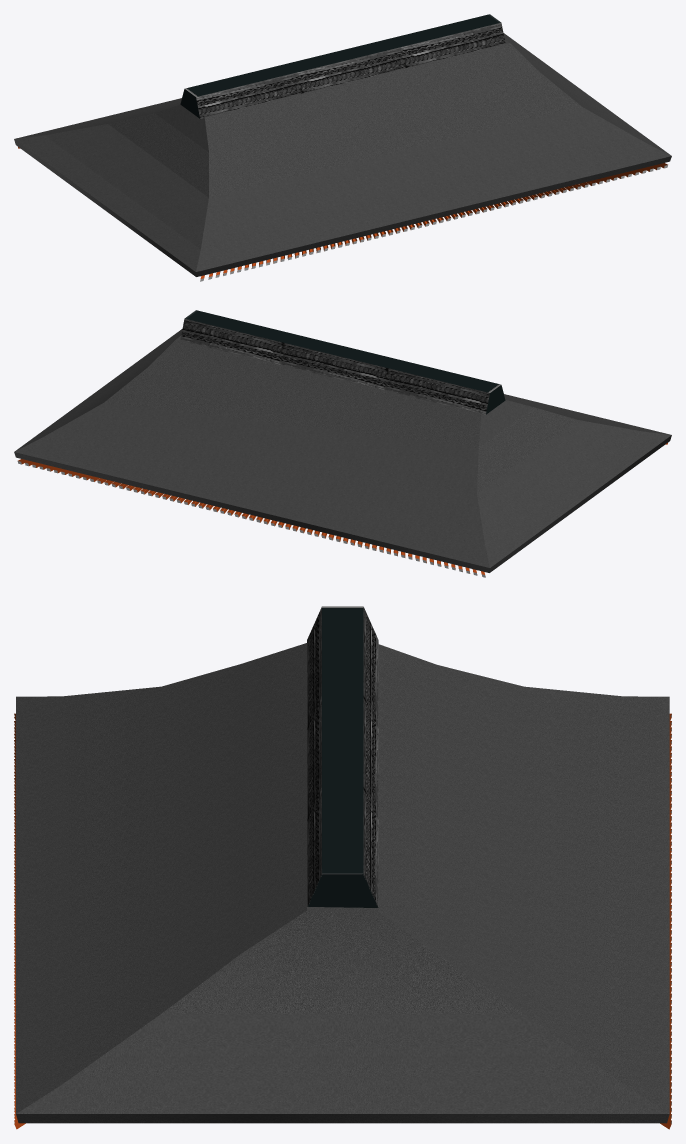
Rendered from roof big.FBX.
The picture shows the model from 3 angles, top to bottom: view 1: azimuth 30°, elevation 25°; view 2: azimuth 150°, elevation 25°; view 3: azimuth 270°, elevation 25°; orthographic projection. The views are drawn at different scales.
Visible parts, largest first — view 1: roof big, roof frieze, Roof Slats #01; view 2: roof big, roof frieze, Roof Slats #02; view 3: roof big, roof frieze, Roof Slats #02, Roof Slats #01.
Part boxes in pixels (x1,y1,x2,y2): roof big: (14, 33, 671, 276); roof frieze: (180, 14, 505, 118); Roof Slats #01: (200, 163, 667, 281); roof big: (14, 329, 671, 572); roof frieze: (180, 310, 505, 414); Roof Slats #02: (17, 459, 485, 577); roof big: (16, 643, 669, 1123); roof frieze: (307, 606, 378, 907); Roof Slats #02: (660, 713, 671, 1129); Roof Slats #01: (14, 713, 25, 1129).
Size of the model in its own units: 725 by 149 by 483.
5 materials, 3 textured.
